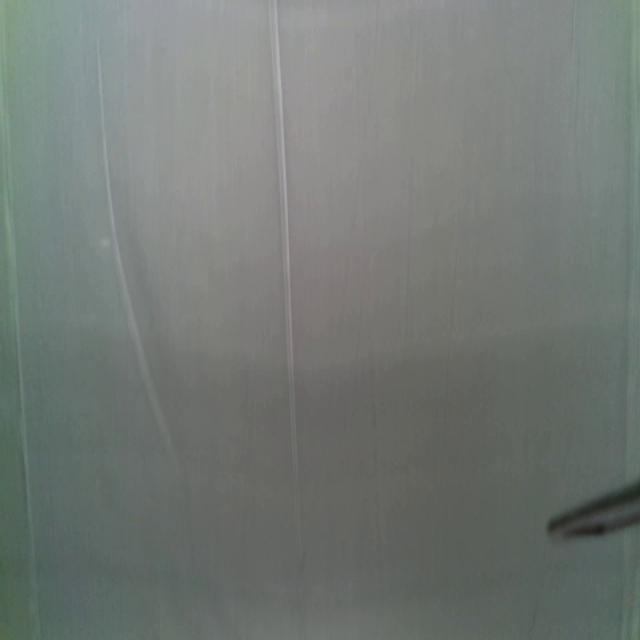crease: (97, 39, 182, 483), (1, 1, 42, 637), (268, 1, 302, 561), (621, 0, 640, 483)
